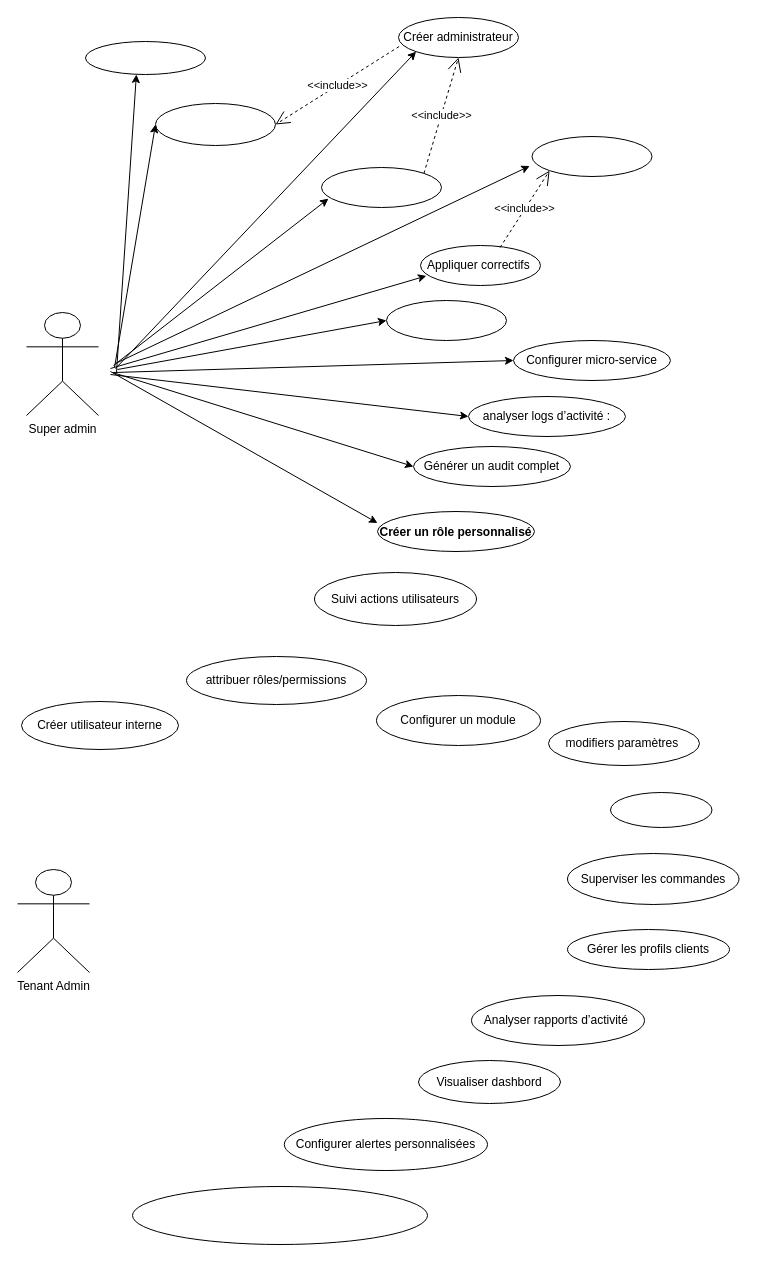
Image size: 757x1262. Some labels were removed from this diagram. The shapes that lost their labels are listed below. From the top down, each one's centre as x and y in pixels, then its label:
At (145,57): "creer Tenant".
At (215,124): "configurer tenant".
At (591,156): "Générer rapports".
At (381,187): "Superviser les actions".
At (446,320): "Gérer incidents".
At (661,810): "Gerer produit".
At (280,1215): "Analyser rapports performances commerciales".
